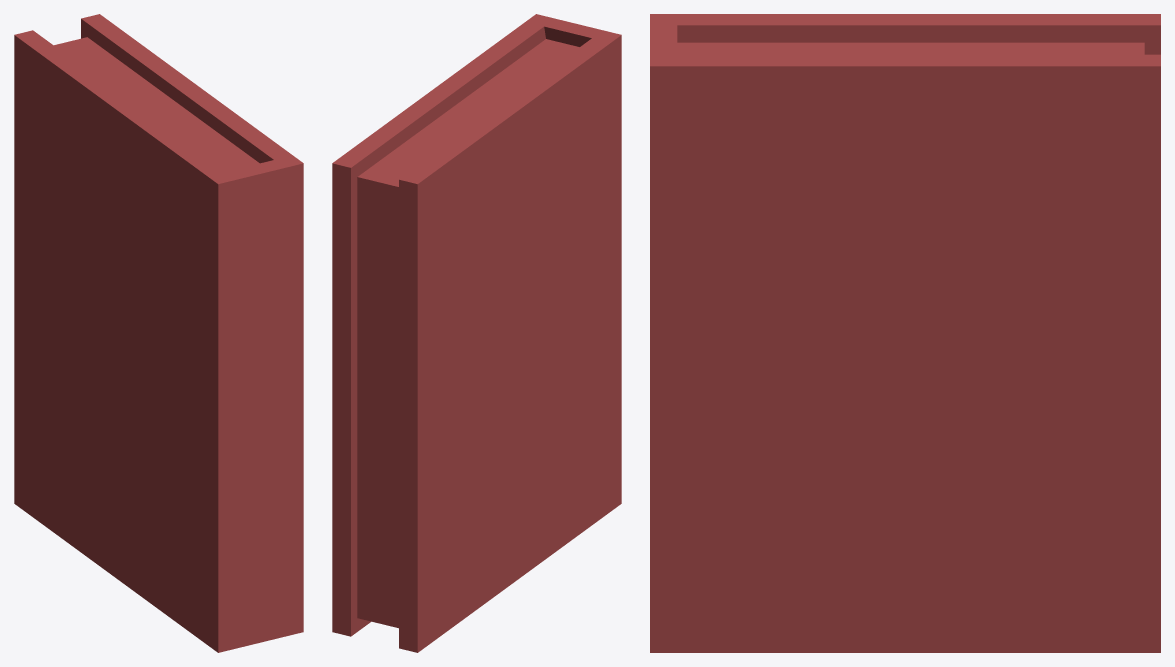
File: 09_book_big.glb
3 renders of one model, left to right at view 1: azimuth 30°, elevation 25°; view 2: azimuth 150°, elevation 25°; view 3: azimuth 270°, elevation 25°, orthographic. The views are drawn at different scales.
Parts seen in each view (by area): view 1: Book_Big; view 2: Book_Big; view 3: Book_Big.
Boxes of the visible parts, <box> form: Book_Big: <box>14,14,303,652</box>; Book_Big: <box>332,14,621,652</box>; Book_Big: <box>650,14,1160,652</box>.
Size of the model in its own units: 0.0593 by 0.3106 by 0.2451.
